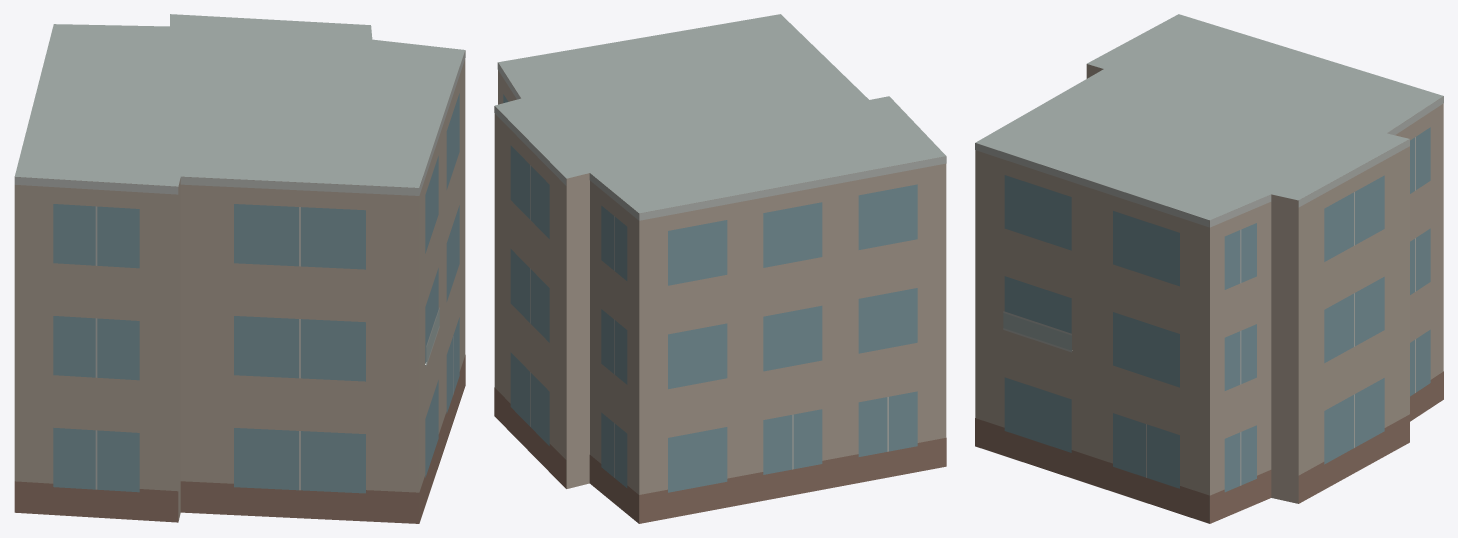
File: survey-upis-32506636.glb
3 views of the same model, side by side, from view 1: azimuth 30°, elevation 25°; view 2: azimuth 150°, elevation 25°; view 3: azimuth 270°, elevation 25° (orthographic). The views are drawn at different scales.
Parts seen in each view (by area): view 1: survey-upis-32506636.tmp; view 2: survey-upis-32506636.tmp; view 3: survey-upis-32506636.tmp.
Boxes of the visible parts, x1,y1,x2,y2 form: survey-upis-32506636.tmp: (14,14,465,523); survey-upis-32506636.tmp: (494,14,946,523); survey-upis-32506636.tmp: (975,14,1443,523).
Size of the model in its own units: 14.88 by 10.2 by 14.28.
